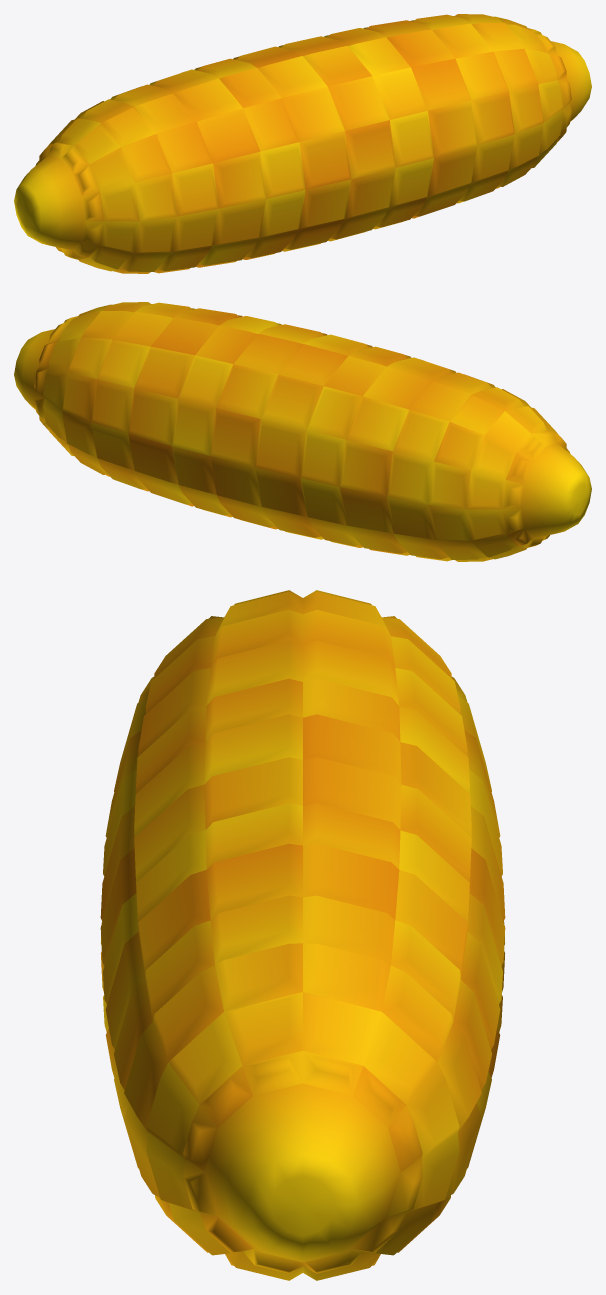
The model's file is Corn_01.glb.
The picture shows the model from 3 angles, top to bottom: view 1: azimuth 30°, elevation 25°; view 2: azimuth 150°, elevation 25°; view 3: azimuth 270°, elevation 25°; orthographic projection. The views are drawn at different scales.
Visible parts, largest first — view 1: Corn_01; view 2: Corn_01; view 3: Corn_01.
Boxes of the visible parts, x1,y1,x2,y2 form: Corn_01: (14, 14, 591, 273); Corn_01: (14, 302, 591, 561); Corn_01: (100, 590, 505, 1280).
Bounding box in the file's own units: 0.6583 × 0.2068 × 0.207.
1 material, 1 textured.
